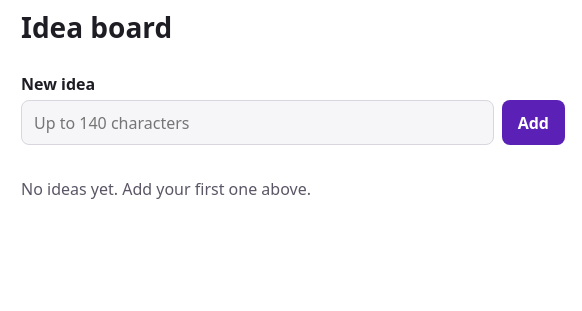
Test case: IdeaBoard › adds an idea to the top of the list and clears the input
Type "Try pottery" into the field labelled "New idea" at (257, 123), box [21,100,494,145]
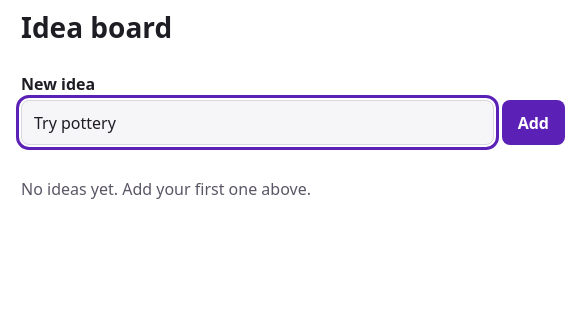
Click the button "Add" at (533, 123), box [502,100,565,145]
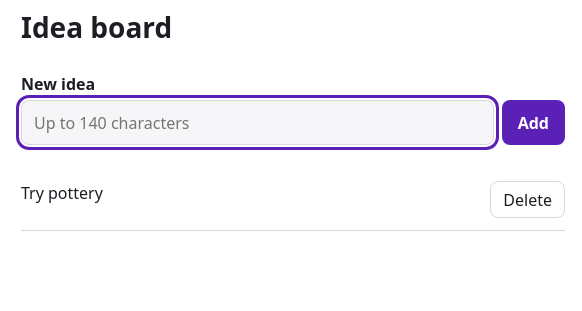
Type "Learn chess" into the field labelled "New idea" at (257, 123), box [21,100,494,145]
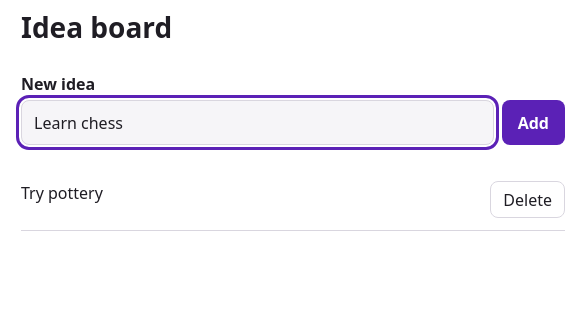
Click the button "Add" at (533, 123), box [502,100,565,145]
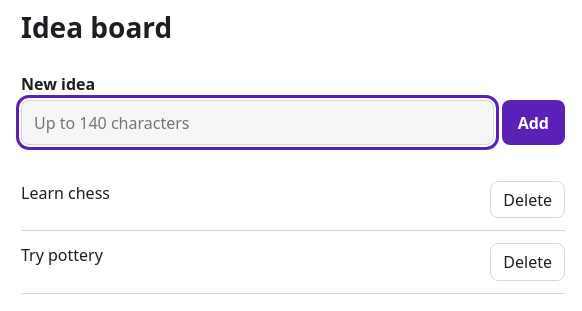
Now the field labelled "New idea" is empty, box [21,100,494,145]
